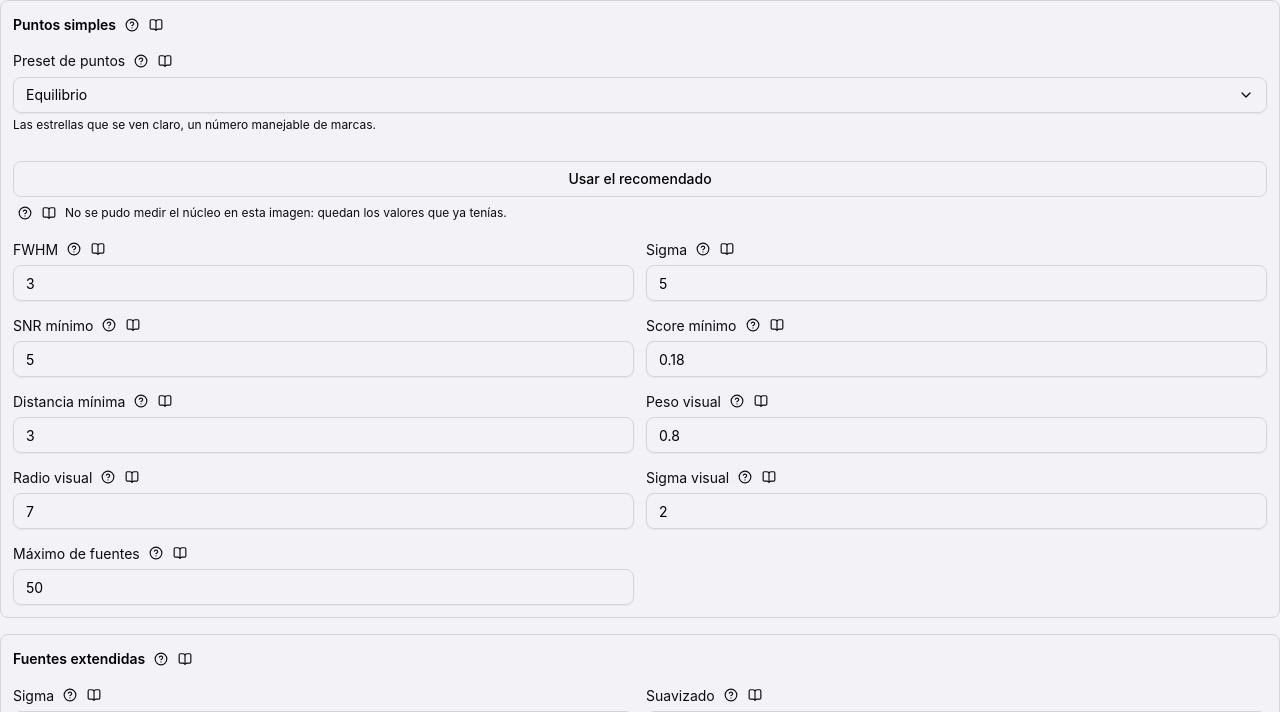
SourceDetectionForm con preset recomendado › deja intactos los parámetros que la medición no toca
Click the button with test id "source-best-preset" at x=640, y=179, box [13,161,1267,197]
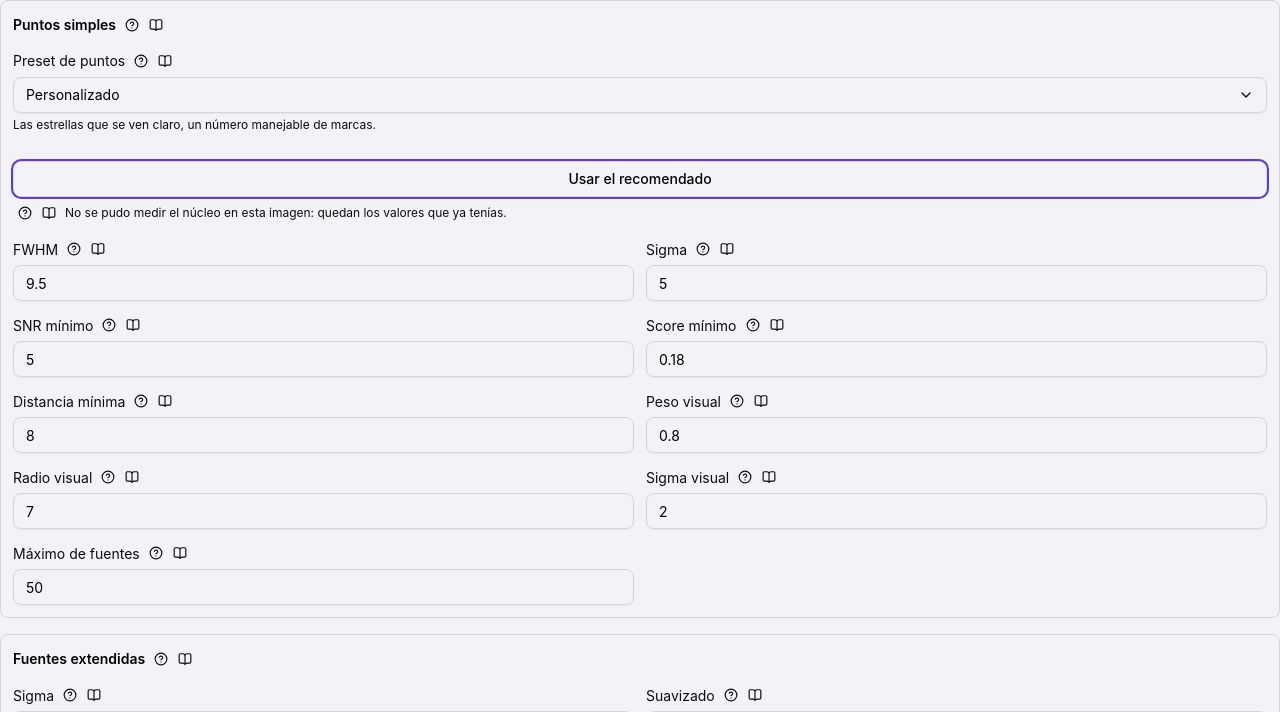
Expected: the field with test id "source-field-min_snr" holds "5", [13,341,634,377]
Now the field with test id "source-field-fwhm" holds "9.5", box [13,265,634,301]
